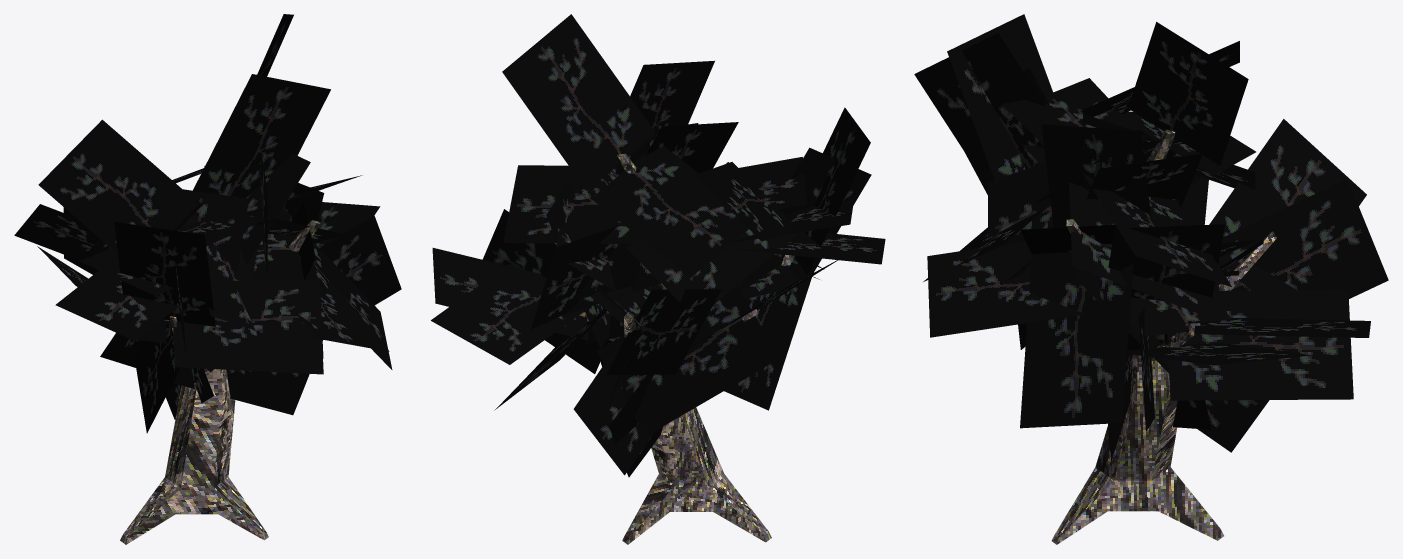
File: tree_2.glb
3 views of the same model, side by side, from view 1: azimuth 30°, elevation 25°; view 2: azimuth 150°, elevation 25°; view 3: azimuth 270°, elevation 25° (orthographic). The views are drawn at different scales.
Parts seen in each view (by area): view 1: tree_1; view 2: tree_1; view 3: tree_1.
Boxes of the visible parts, <box> form: tree_1: <box>14,14,401,544</box>; tree_1: <box>431,14,885,544</box>; tree_1: <box>914,14,1388,544</box>.
Bounding box in the file's own units: 5.06 × 6.04 × 4.61.
2 materials, 2 textured.
